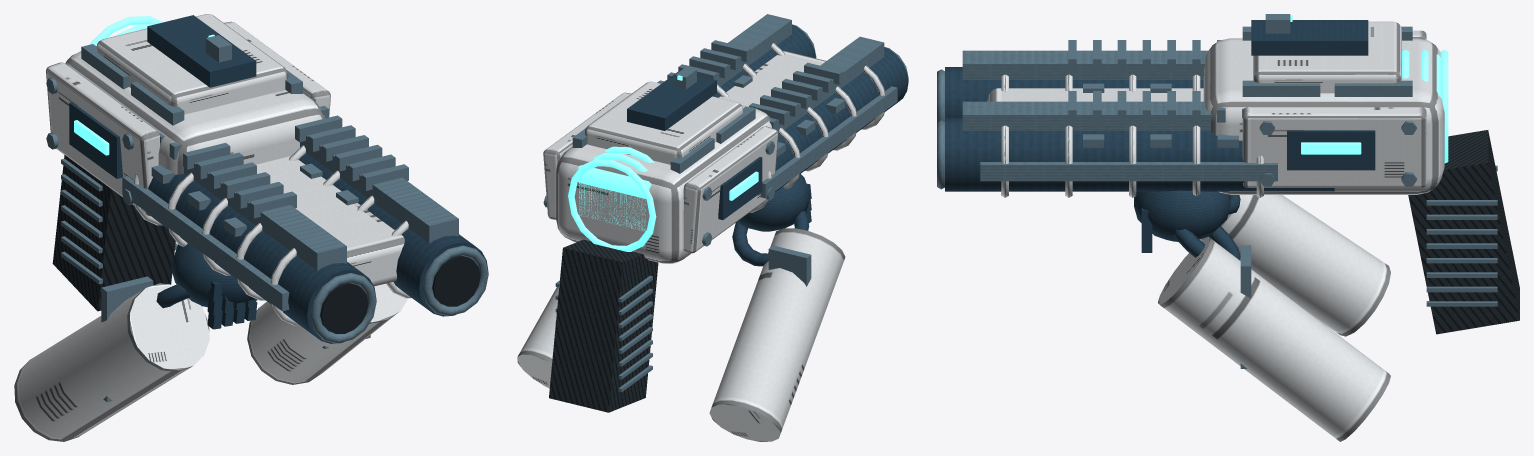
The model's file is first-person-shotgun-lod0.glb.
3 renders of one model, left to right at view 1: azimuth 30°, elevation 25°; view 2: azimuth 150°, elevation 25°; view 3: azimuth 270°, elevation 25°, orthographic. The views are drawn at different scales.
Parts seen in each view (by area): view 1: viewmodel:forearm:-1, weapon:receiver, weapon:grip, weapon:receiver:top-armour, weapon:bridge, weapon:side-plate:-1, weapon:barrel-shroud:-1, viewmodel:forearm:1, weapon:sight:base, weapon:barrel-rail:-1, weapon:barrel-rail:1, weapon:barrel-rail:side:-1 (+31 smaller); view 2: viewmodel:forearm:-1, weapon:grip, weapon:receiver, weapon:receiver:top-armour, weapon:side-plate:-1, weapon:barrel-shroud:-1, weapon:sight:base, weapon:barrel-rail:side:-1, weapon:barrel-rail:-1, viewmodel:forearm:1, weapon:bridge, viewmodel:hand:-1 (+18 smaller); view 3: viewmodel:forearm:1, viewmodel:forearm:-1, weapon:grip, weapon:barrel-shroud:1, weapon:side-plate:1, weapon:receiver, weapon:barrel-rail:1, weapon:barrel-rail:-1, weapon:barrel-rail:side:1, weapon:receiver:top-armour, weapon:sight:base, viewmodel:hand:1 (+9 smaller).
Part boxes in pixels (x1,y1,x2,y2): viewmodel:forearm:-1: (14, 283, 209, 441); weapon:receiver: (65, 51, 324, 174); weapon:grip: (52, 155, 175, 311); weapon:receiver:top-armour: (96, 14, 288, 114); weapon:bridge: (256, 156, 404, 286); weapon:side-plate:-1: (46, 62, 160, 216); weapon:barrel-shroud:-1: (148, 173, 376, 343); viewmodel:forearm:1: (247, 283, 408, 384); weapon:sight:base: (147, 15, 256, 87); weapon:barrel-rail:-1: (184, 156, 346, 270); weapon:barrel-rail:1: (300, 128, 458, 243); weapon:barrel-rail:side:-1: (122, 176, 289, 311); viewmodel:forearm:-1: (709, 228, 845, 441); weapon:grip: (549, 239, 658, 412); weapon:receiver: (555, 105, 771, 263); weapon:receiver:top-armour: (585, 81, 743, 164); weapon:side-plate:-1: (683, 126, 778, 253); weapon:barrel-shroud:-1: (775, 47, 908, 192); weapon:sight:base: (627, 71, 716, 130); weapon:barrel-rail:side:-1: (760, 86, 897, 198); weapon:barrel-rail:-1: (766, 36, 884, 133); viewmodel:forearm:1: (517, 287, 559, 388); weapon:bridge: (719, 51, 825, 106); viewmodel:hand:-1: (737, 174, 810, 231); viewmodel:forearm:1: (1158, 237, 1390, 441); viewmodel:forearm:-1: (1199, 195, 1390, 336); weapon:grip: (1408, 130, 1519, 334); weapon:barrel-shroud:1: (945, 118, 1334, 191); weapon:side-plate:1: (1242, 107, 1426, 187); weapon:receiver: (1203, 38, 1444, 194); weapon:barrel-rail:1: (962, 101, 1212, 130); weapon:barrel-rail:-1: (962, 50, 1207, 79); weapon:barrel-rail:side:1: (980, 162, 1277, 181); weapon:receiver:top-armour: (1253, 21, 1401, 93); weapon:sight:base: (1251, 20, 1368, 55); viewmodel:hand:1: (1134, 190, 1230, 241).
Size of the model in its own units: 0.4007 by 0.4812 by 0.6909.
Materials: 6 (4 with a texture image).
